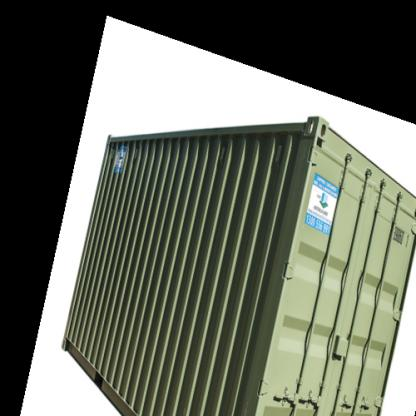Damage: (152, 138, 198, 162)
